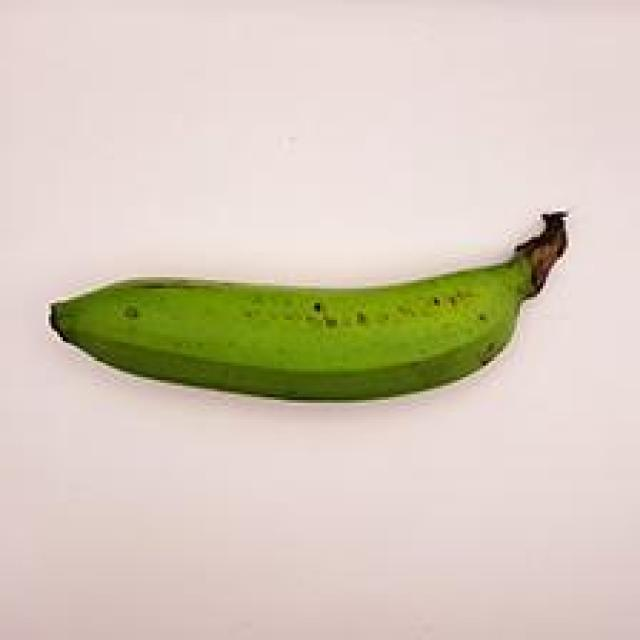Raw: (40, 194, 594, 422)
